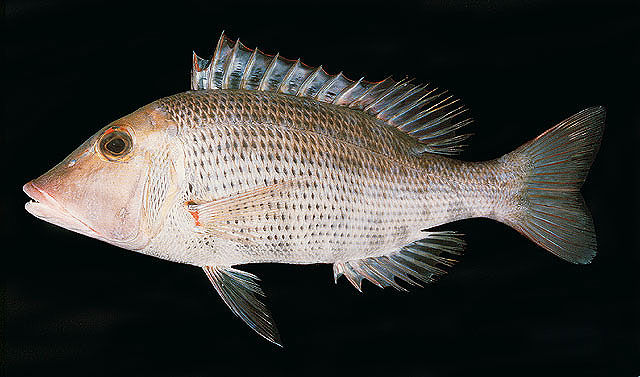fish: (22, 31, 607, 349)
